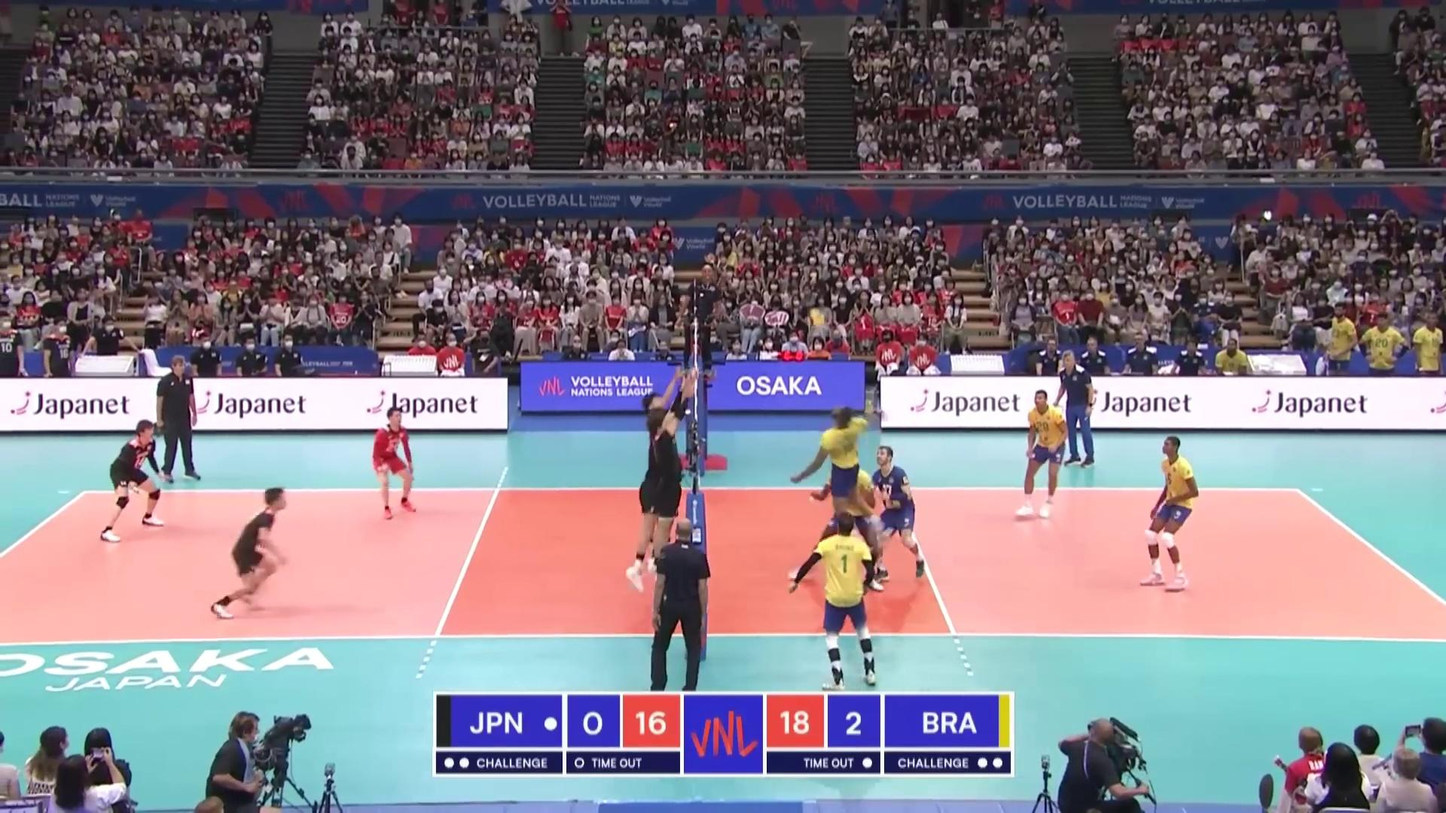player: (790, 449, 886, 593), (794, 401, 888, 544), (805, 513, 876, 689), (625, 410, 683, 589), (209, 490, 284, 620), (863, 444, 929, 587), (1141, 437, 1200, 596), (103, 421, 165, 540), (639, 388, 682, 549), (1020, 391, 1068, 521), (371, 407, 417, 519)
refree: (648, 519, 709, 696), (685, 265, 721, 381)
